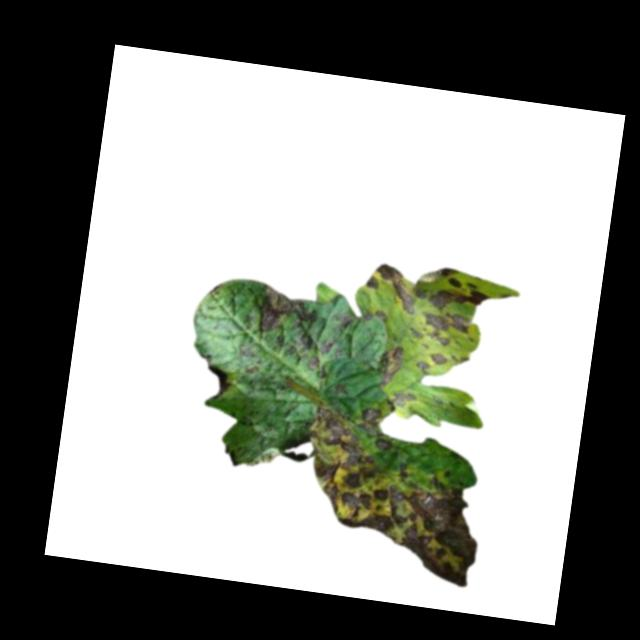Early_blight: (291, 412, 493, 588), (255, 282, 318, 350), (415, 264, 492, 317), (362, 261, 419, 316), (406, 306, 474, 351), (374, 341, 406, 390), (204, 363, 233, 401), (415, 349, 447, 376), (390, 387, 418, 409), (360, 403, 383, 423), (337, 311, 355, 331), (307, 353, 322, 371), (319, 339, 335, 352)
